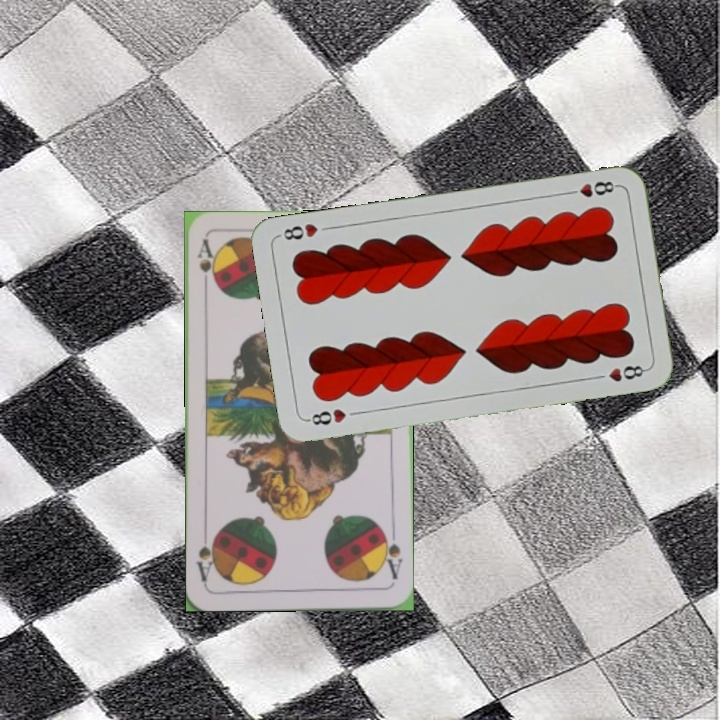H8: (562, 177, 621, 200), (303, 404, 349, 428)
SA: (378, 525, 405, 582), (194, 236, 218, 295)
